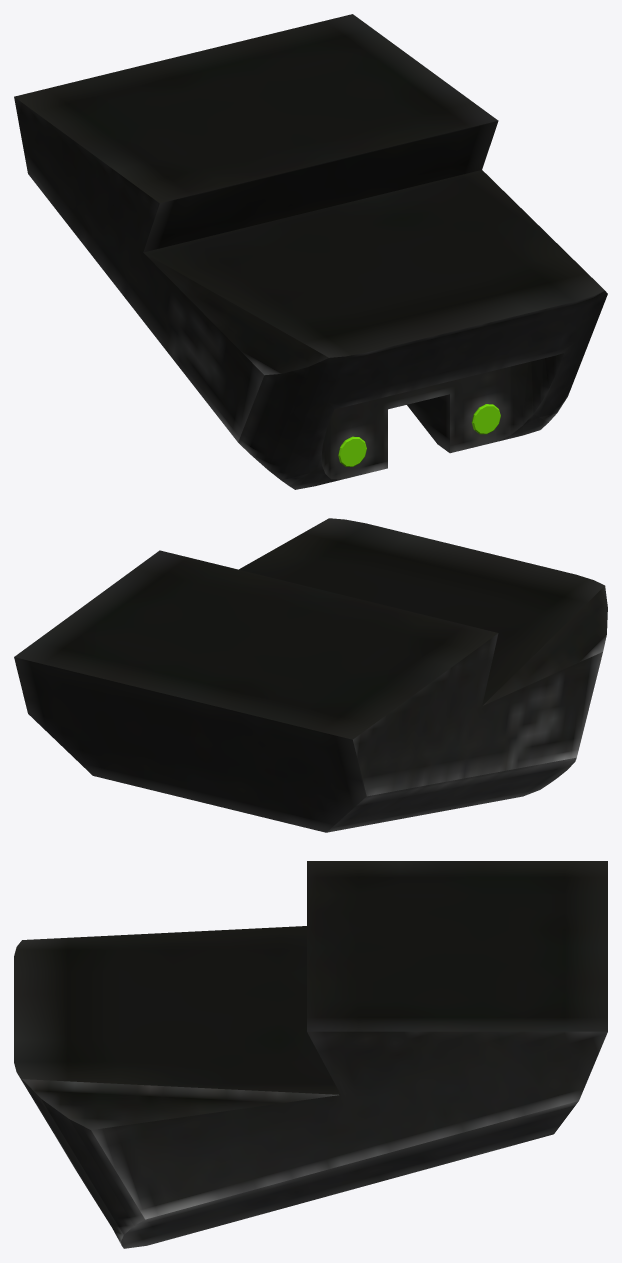
The picture shows the model from 3 angles, top to bottom: view 1: azimuth 30°, elevation 25°; view 2: azimuth 150°, elevation 25°; view 3: azimuth 270°, elevation 25°; orthographic projection. The views are drawn at different scales.
Visible parts, largest first — view 1: TW_5f3e7897ddc4f03b010e204a_PZ_Import; view 2: TW_5f3e7897ddc4f03b010e204a_PZ_Import; view 3: TW_5f3e7897ddc4f03b010e204a_PZ_Import.
Boxes of the visible parts, <box> form: TW_5f3e7897ddc4f03b010e204a_PZ_Import: <box>14,14,607,489</box>; TW_5f3e7897ddc4f03b010e204a_PZ_Import: <box>14,518,607,832</box>; TW_5f3e7897ddc4f03b010e204a_PZ_Import: <box>14,861,607,1248</box>.
Size of the model in its own units: 0.00968 by 0.0142 by 0.00636.
Materials: 1 (1 with a texture image).
